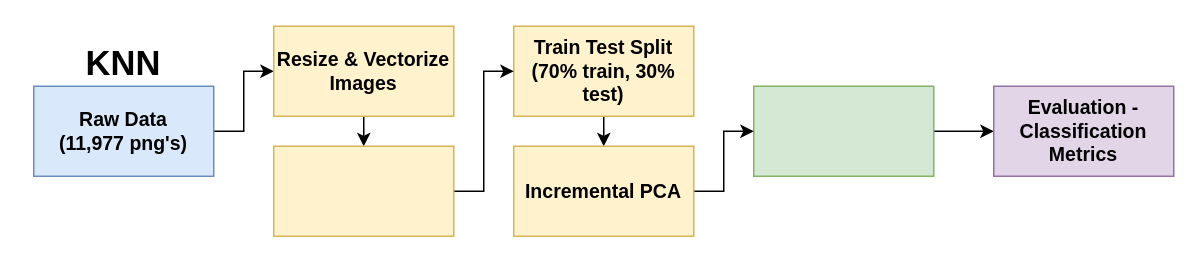
Some shapes in this 1200 by 263 pixel diagram are drawn without their labels. The shapes that lost their labels are listed below. From the top down, each one's centre as x and y in pixels, then its label:
At point (843, 130): "Fit KNN Algorithm".
At point (363, 190): "Min Max Normalization & Standard Scaler".
